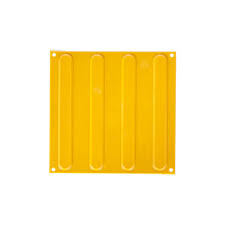guide_blocks: (51, 52, 172, 170)
